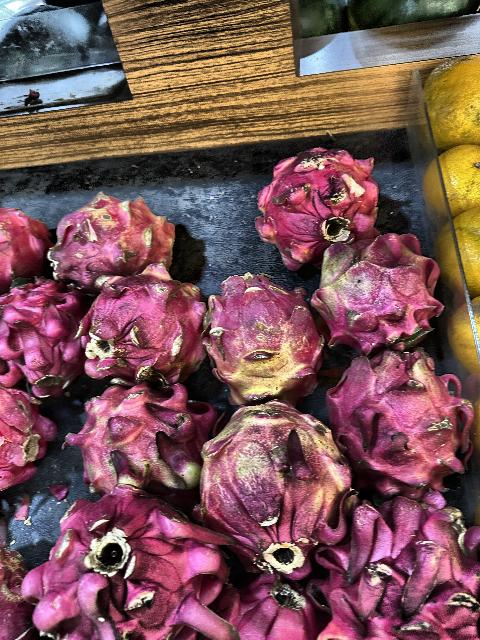buah-naga-belum-matang: (195, 402, 351, 570), (65, 384, 207, 494), (206, 276, 322, 402)
buah-naga-matang: (30, 492, 238, 640), (310, 498, 480, 640), (323, 348, 473, 499), (313, 230, 451, 354), (248, 144, 382, 268), (75, 276, 207, 382), (45, 200, 185, 278), (0, 278, 90, 398), (212, 576, 320, 640), (0, 380, 60, 490), (0, 195, 54, 288)
